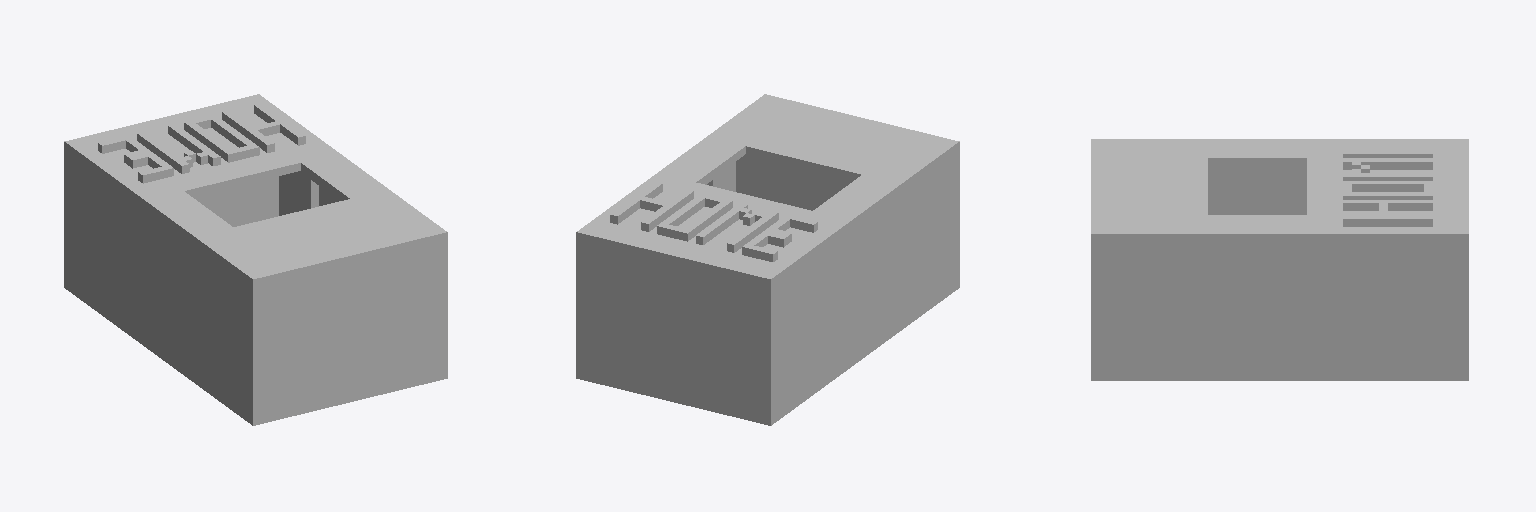
File: home.obj
3 views of the same model, side by side, from view 1: azimuth 30°, elevation 25°; view 2: azimuth 150°, elevation 25°; view 3: azimuth 270°, elevation 25° (orthographic).
Parts seen in each view (by area): view 1: object 1; view 2: object 1; view 3: object 1.
Part boxes in pixels (x1,y1,x2,y2): object 1: (64,94,447,425); object 1: (576,94,959,425); object 1: (1091,139,1468,380).
Size of the model in its own units: 2.5 by 1.9 by 4.2.